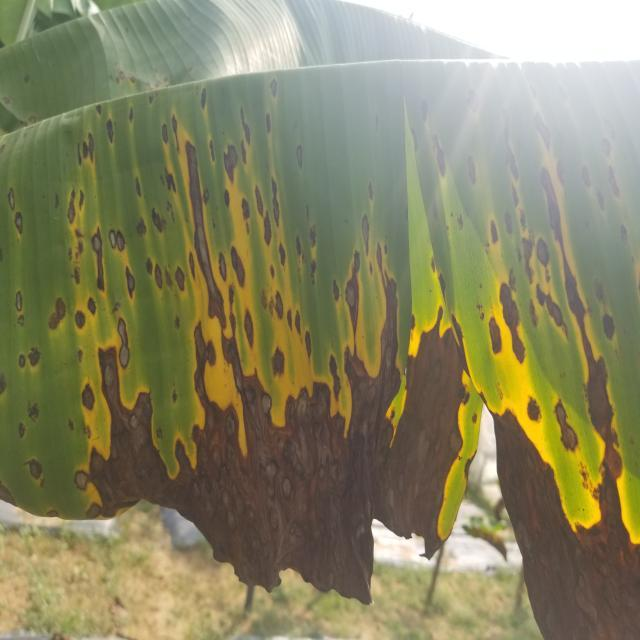Early_rust: (0, 59, 640, 569)
